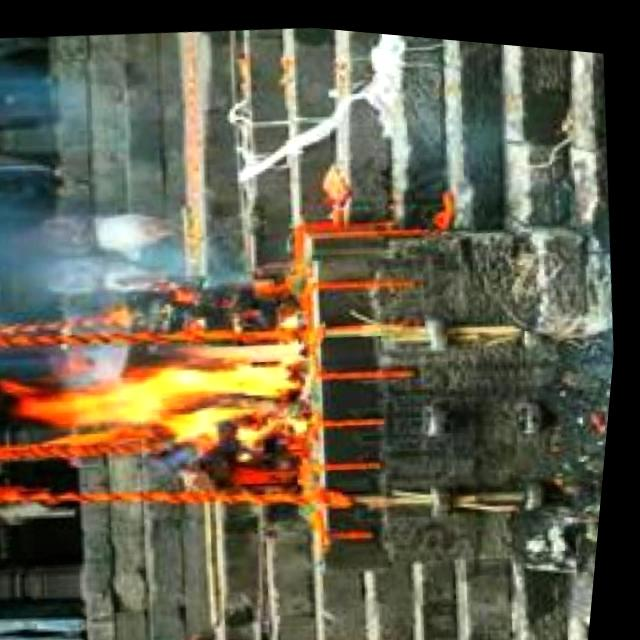fire: (24, 304, 328, 476)
